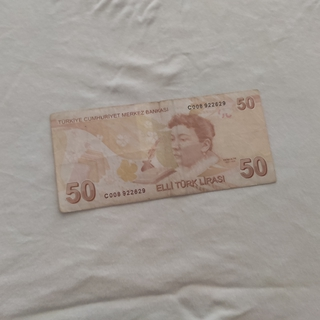50TLBack: (49, 89, 276, 213)
